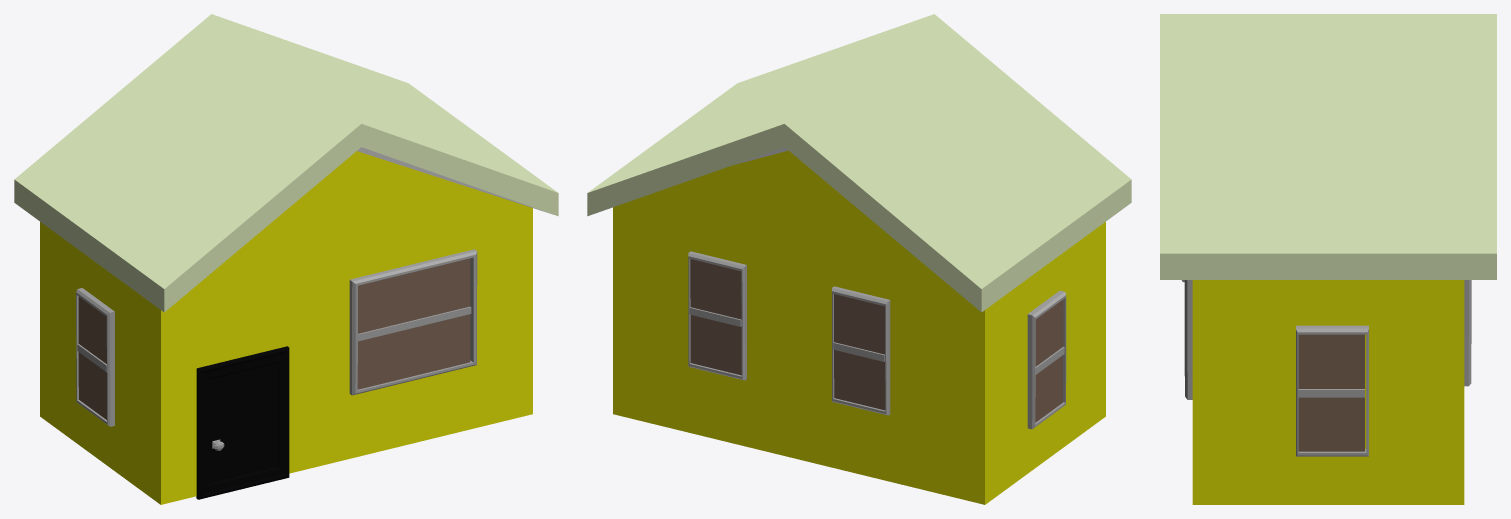
File: Farmhouse2.fbx
The picture shows the model from 3 angles, left to right: view 1: azimuth 30°, elevation 25°; view 2: azimuth 150°, elevation 25°; view 3: azimuth 270°, elevation 25°; orthographic projection. The views are drawn at different scales.
Visible parts, largest first — view 1: pCube110, polySurface430, pSphere22, polySurface434; view 2: pCube110, polySurface433, polySurface432, polySurface434; view 3: pCube110, polySurface431, polySurface430, polySurface432.
Part boxes in pixels (x1,y1,x2,y2): pCube110: [14, 14, 558, 504]; polySurface430: [349, 249, 477, 395]; pSphere22: [196, 346, 289, 499]; polySurface434: [76, 288, 114, 426]; pCube110: [587, 14, 1131, 504]; polySurface433: [832, 286, 890, 415]; polySurface432: [688, 251, 746, 380]; polySurface434: [1027, 290, 1066, 429]; pCube110: [1160, 14, 1496, 504]; polySurface431: [1296, 325, 1368, 456]; polySurface430: [1184, 280, 1192, 399]; polySurface432: [1464, 280, 1471, 386].
Bounding box in the file's own units: 47.58 × 40.22 × 31.36.
